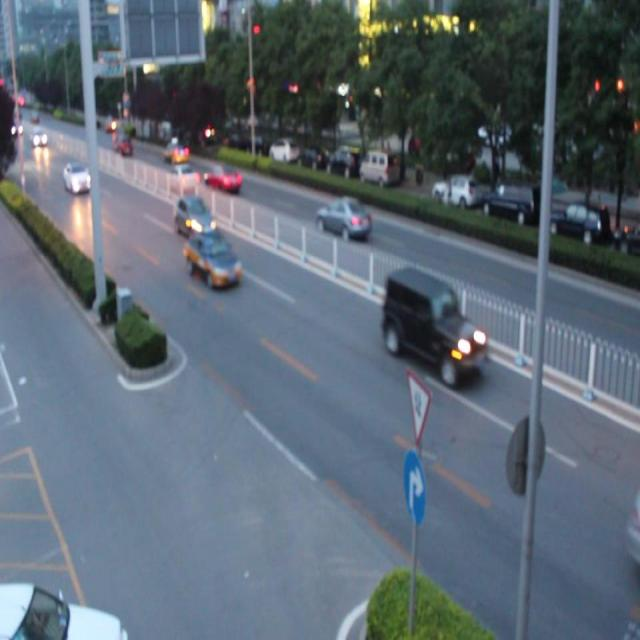car: (384, 273, 483, 379), (1, 582, 126, 640), (185, 233, 241, 285), (315, 198, 371, 236), (174, 195, 214, 236), (203, 163, 240, 193), (64, 164, 92, 193), (168, 167, 199, 190), (163, 144, 188, 164)
